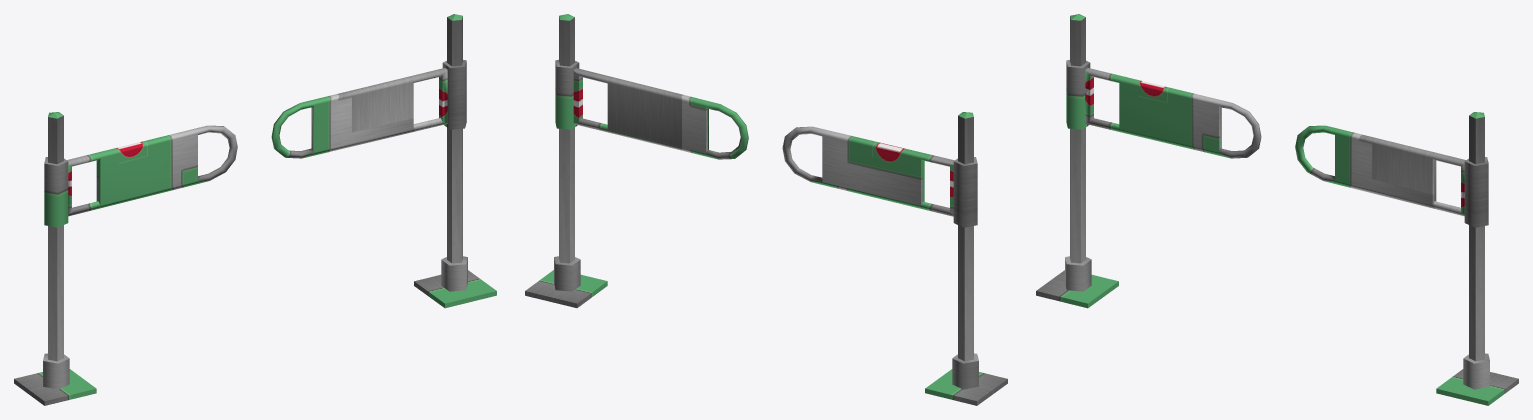
File: Einrichtung_Absperrung_Eingang.fbx
3 renders of one model, left to right at view 1: azimuth 30°, elevation 25°; view 2: azimuth 150°, elevation 25°; view 3: azimuth 330°, elevation 25°, orthographic.
Visible parts, largest first — view 1: Eingang_rahmen, Eingang_links1, Eingang_rechts; view 2: Eingang_rahmen, Eingang_rechts, Eingang_links1; view 3: Eingang_rahmen, Eingang_rechts, Eingang_links1.
Boxes of the visible parts, x1,y1,x2,y2 form: Eingang_rahmen: (14, 14, 496, 405); Eingang_links1: (271, 60, 466, 158); Eingang_rechts: (44, 125, 237, 227); Eingang_rahmen: (525, 14, 1007, 405); Eingang_rechts: (782, 126, 977, 227); Eingang_links1: (555, 59, 748, 159); Eingang_rahmen: (1036, 14, 1518, 405); Eingang_rechts: (1066, 60, 1261, 158); Eingang_links1: (1295, 125, 1488, 227).
Bounding box in the file's own units: 197 × 115 × 23.22.
1 material, 1 textured.
